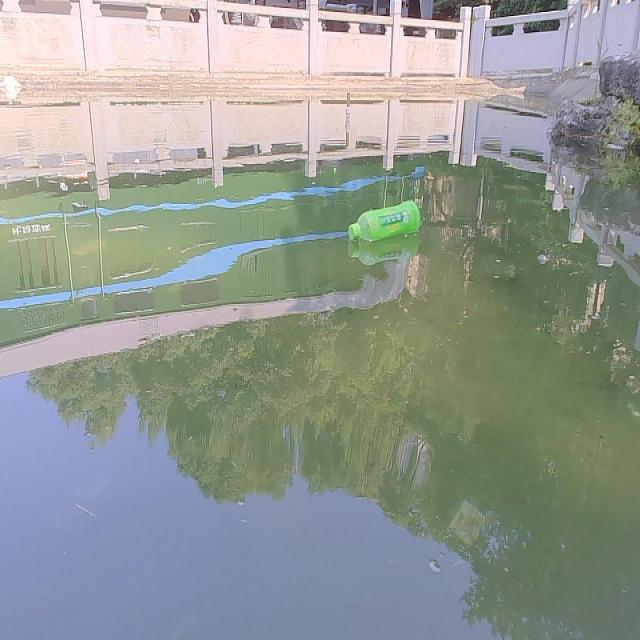Bottle: (345, 200, 423, 243)
